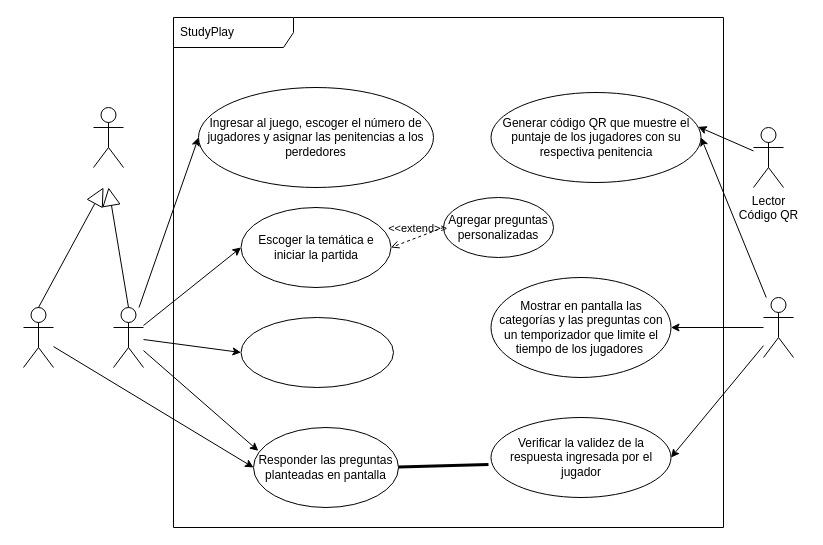
Some shapes in this 823 by 545 pixel diagram are drawn without their labels. The shapes that lost their labels are listed below. From the top down, each one's centre as x and y in pixels, then its label:
At (x=108, y=137): "Jugador".
At (x=38, y=337): "Jugador Invitado".
At (x=128, y=337): "Jugador Anfitrión".
At (x=778, y=327): "Aplicación".
At (x=317, y=352): "Reiniciar juego".
